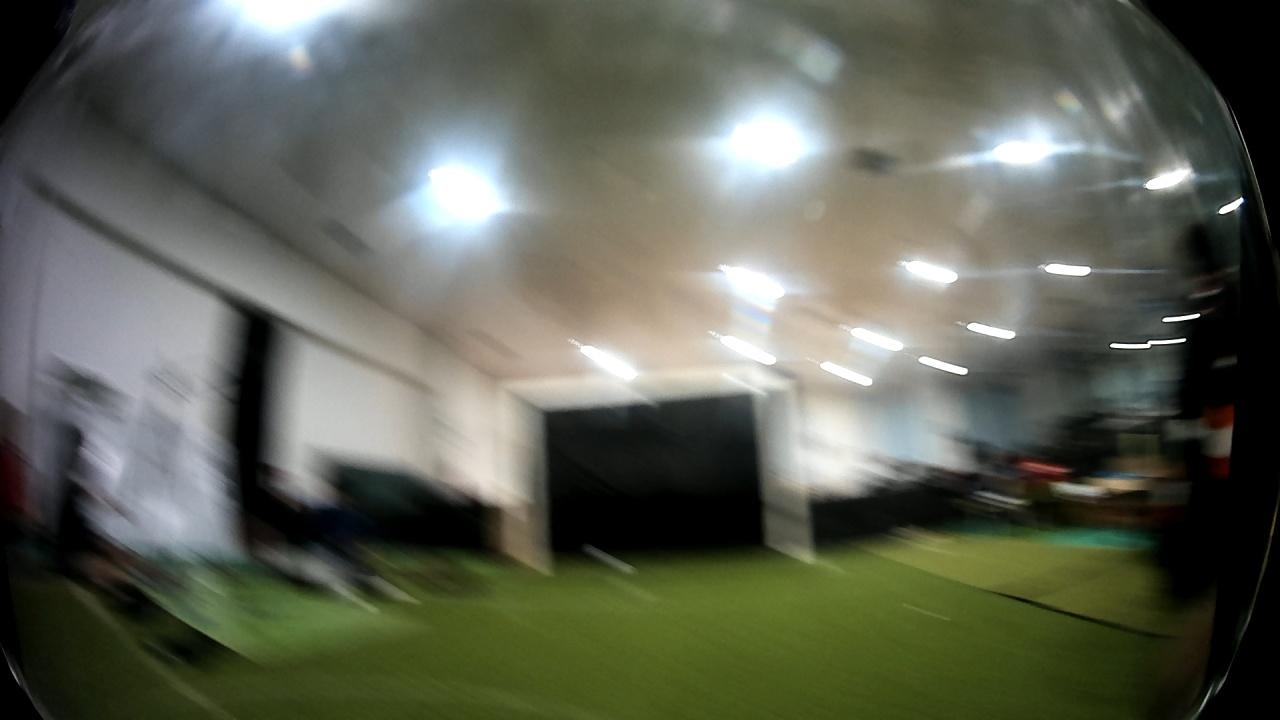ball: (578, 534, 644, 579)
